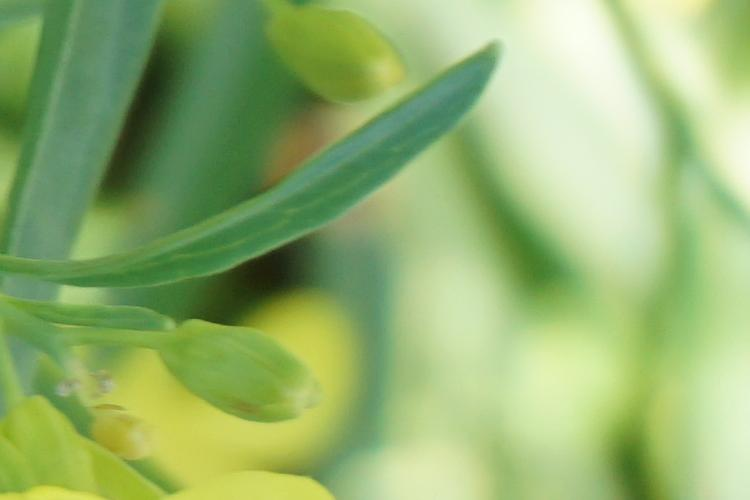bud: (152, 316, 336, 434), (267, 8, 416, 108), (89, 409, 165, 462)
yellow: (1, 380, 327, 500)
